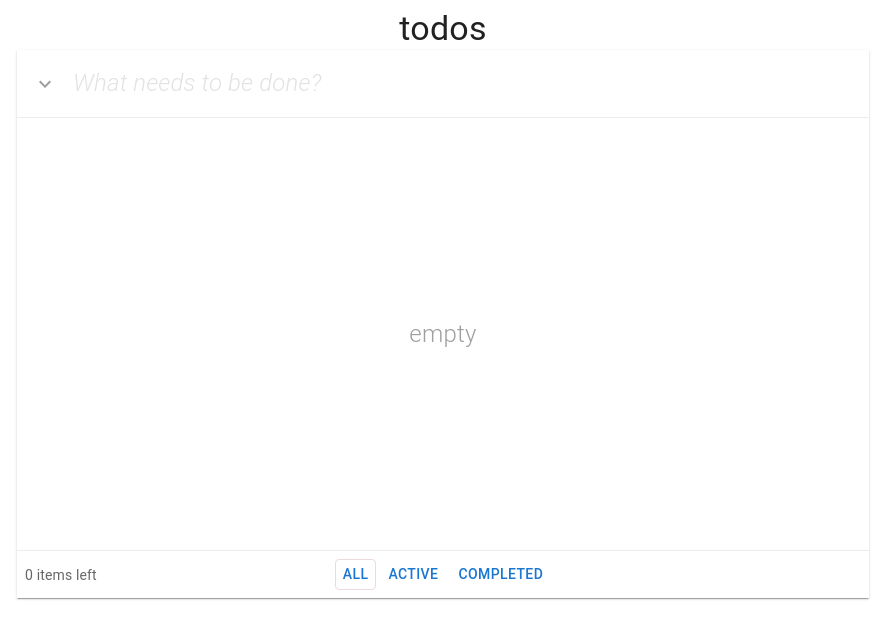
it: Todo Component › deletes a todo when clicking the delete button
Type "Delete task" into the field with placeholder "What needs to be done?" at [471, 84], box 73,62 -> 869,106
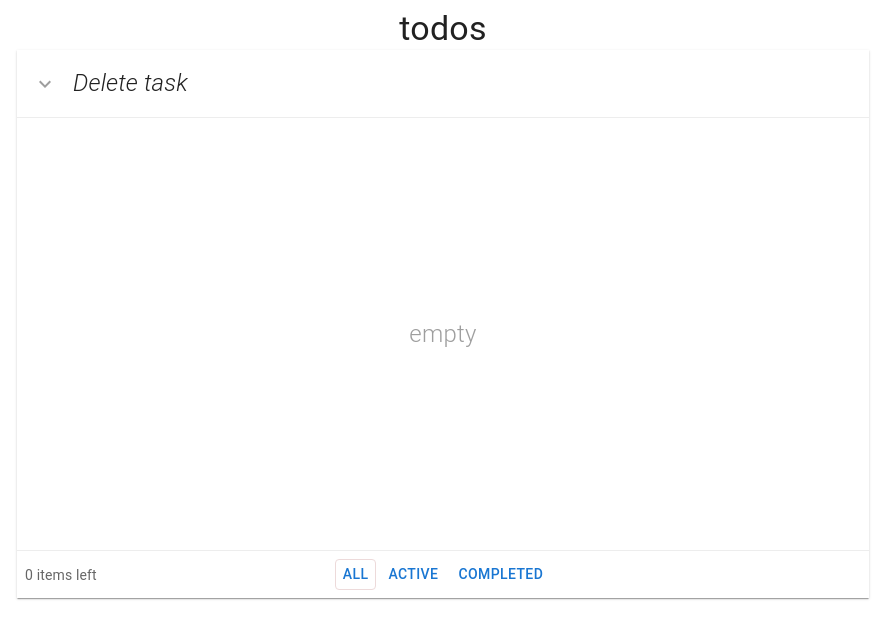
Press Enter in the field with placeholder "What needs to be done?", box 73,62 -> 869,106
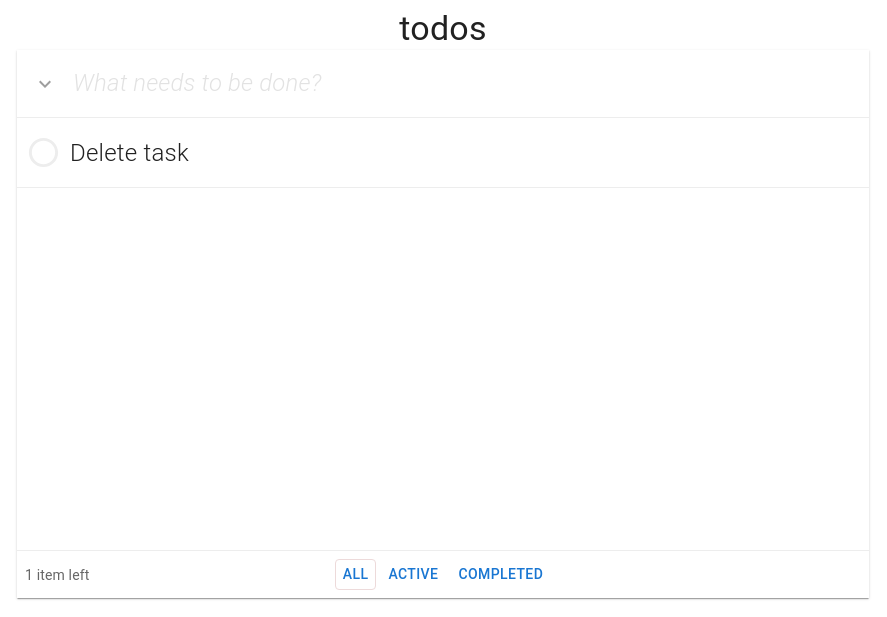
Expected: the text "Delete task" is shown, 70,133 -> 189,173
Hover over the list item "Delete task" at [443, 154], box 17,118 -> 869,188
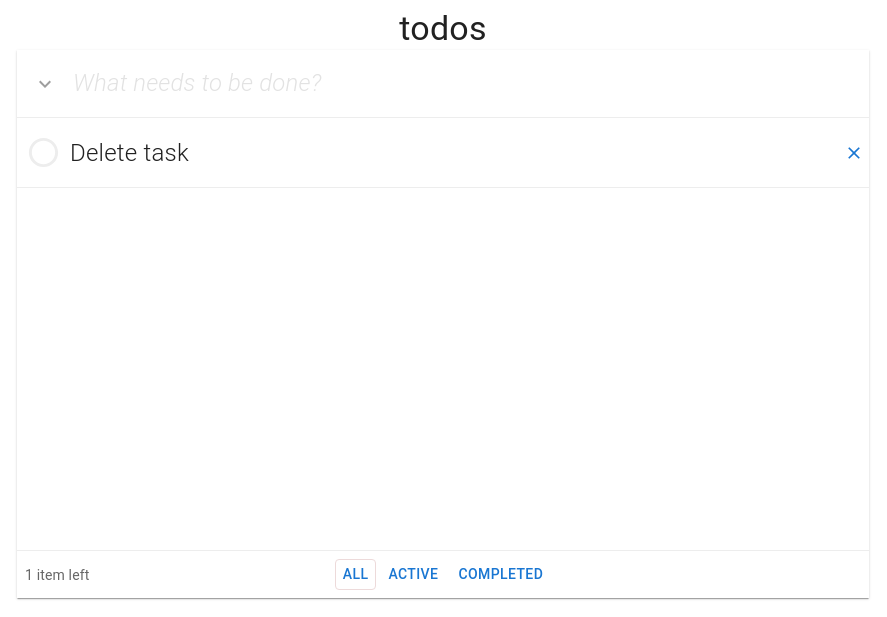
Click the button "Completed" at [501, 575], box 450,560 -> 551,590
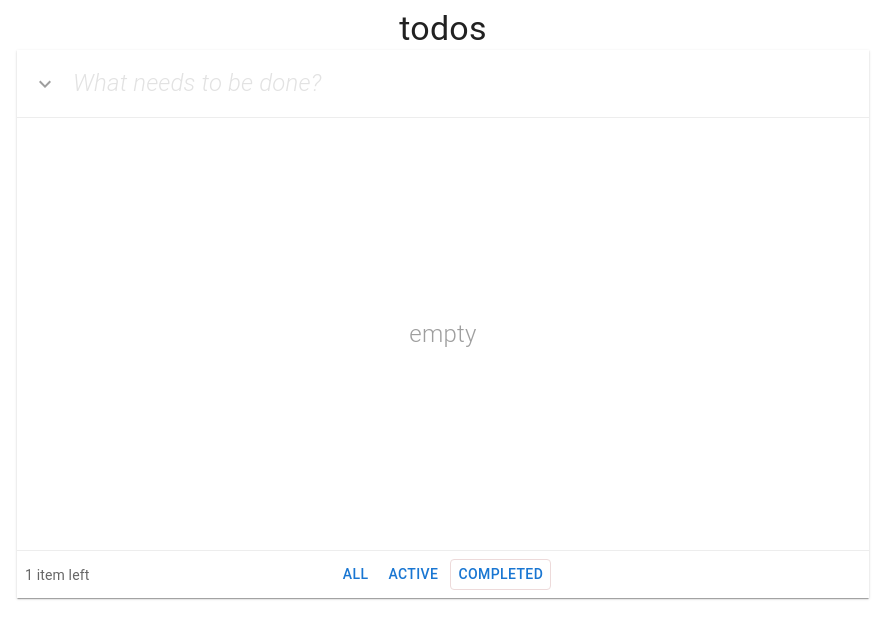
Expected: the text "Delete task" is gone
